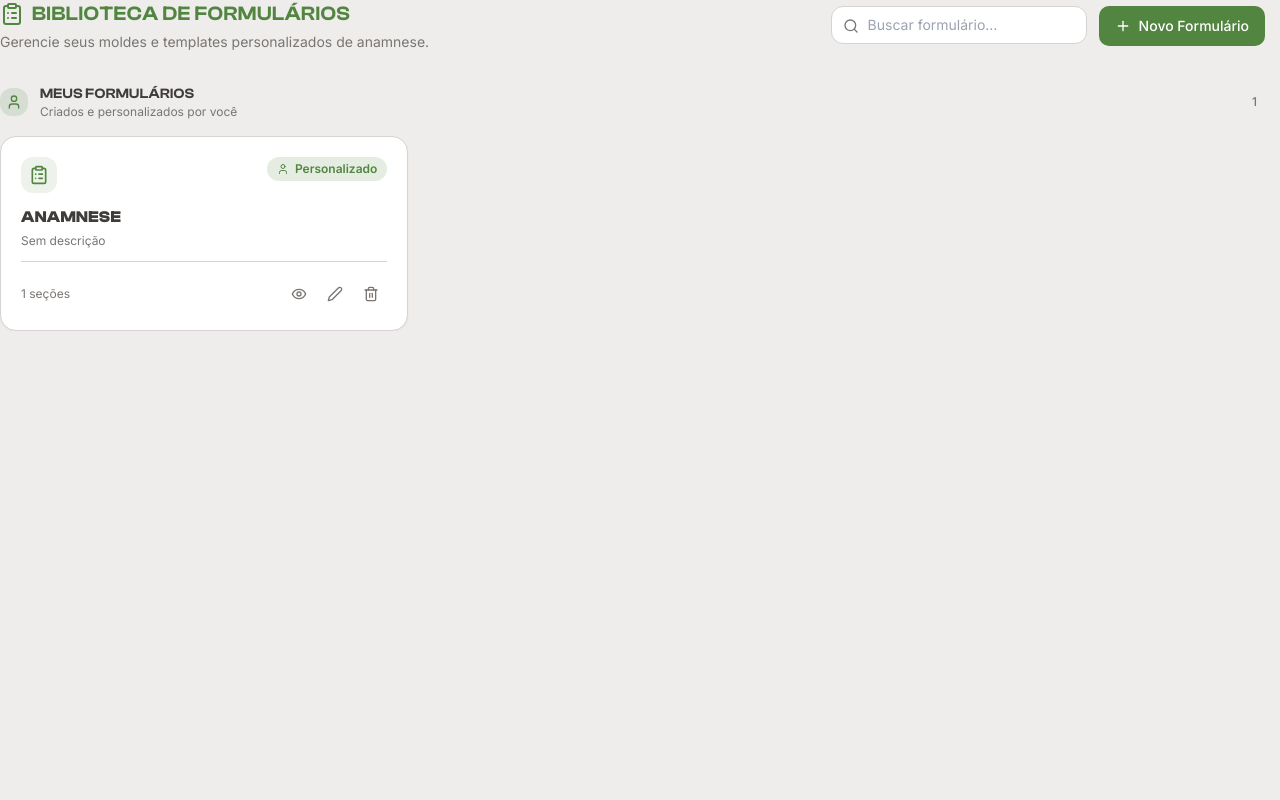
TemplatesList preview › shows labels for both saved option formats without crashing
What coordinates should you click on to do the following:
click the button titled "Visualizar"
I would click on:
 (299, 294)
Its box is [283,278,315,310].
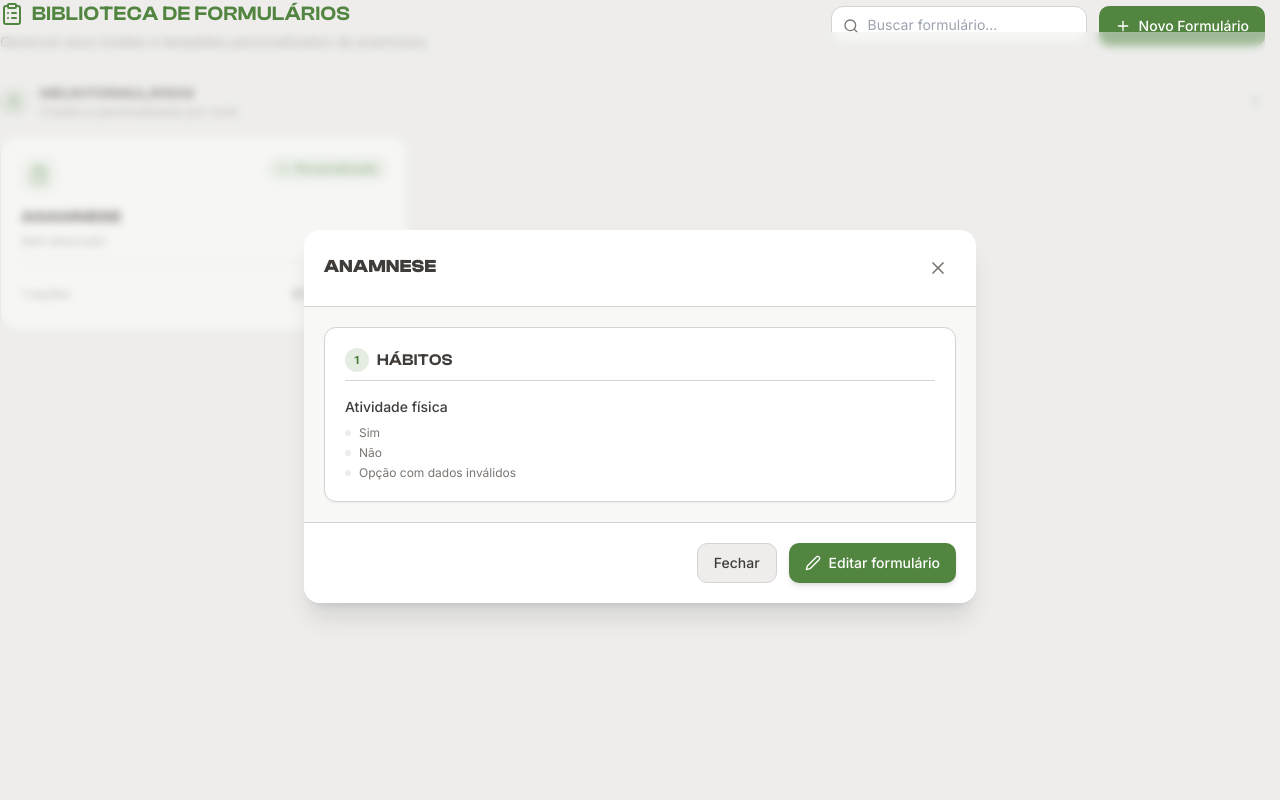
Check: the list item "Sim" is shown, box [345,424,380,440]
Check: the list item "Não" is shown, box [345,444,382,460]
Check: the list item "Opção com dados inválidos" is shown, box [345,464,516,480]
